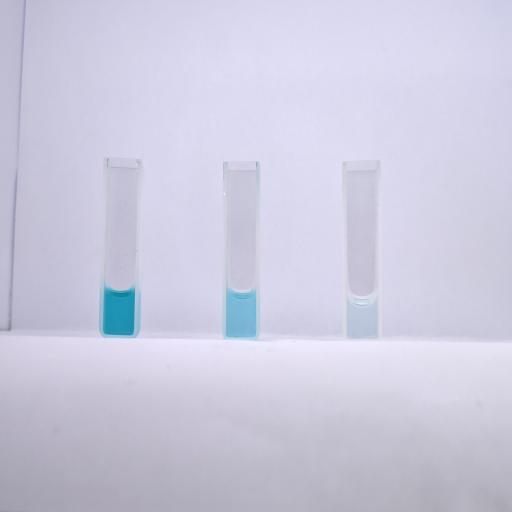cuvette: (98, 156, 144, 339), (340, 159, 384, 342), (221, 159, 262, 341)
liquid: (104, 286, 134, 334), (226, 290, 256, 337), (348, 294, 378, 338)
